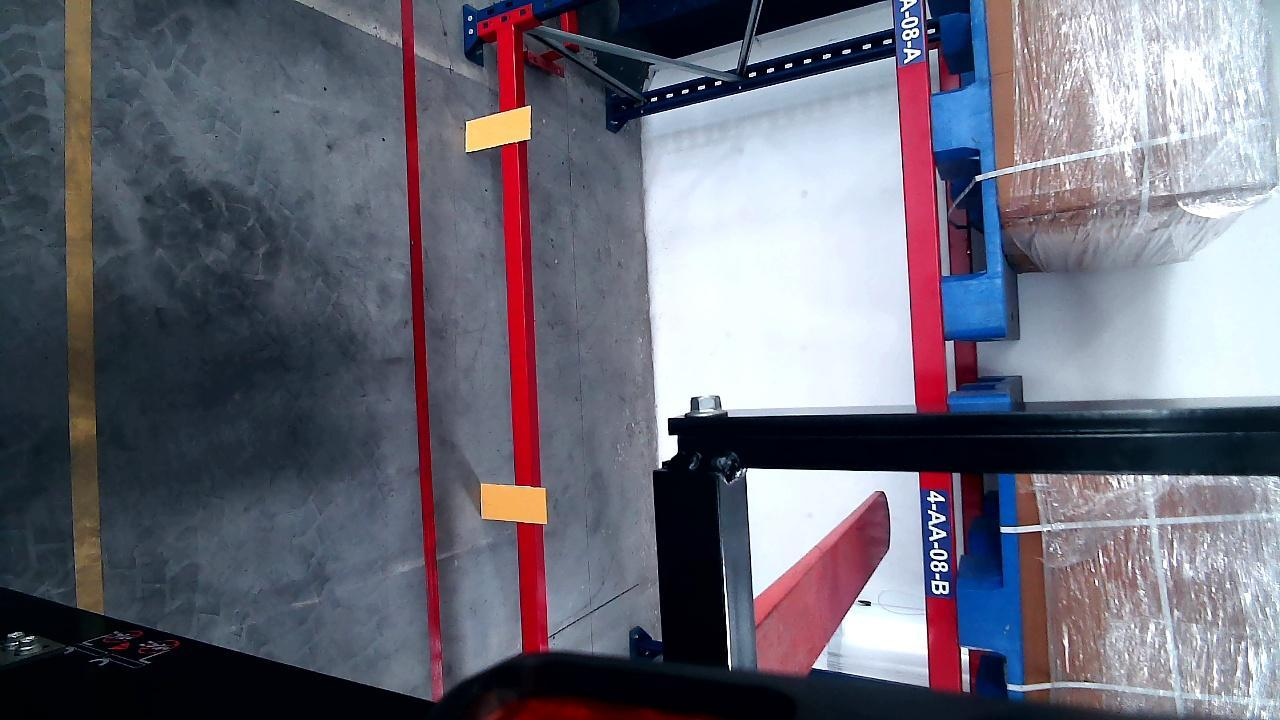red_line: (399, 2, 443, 701)
yellow_line: (63, 0, 101, 615)
